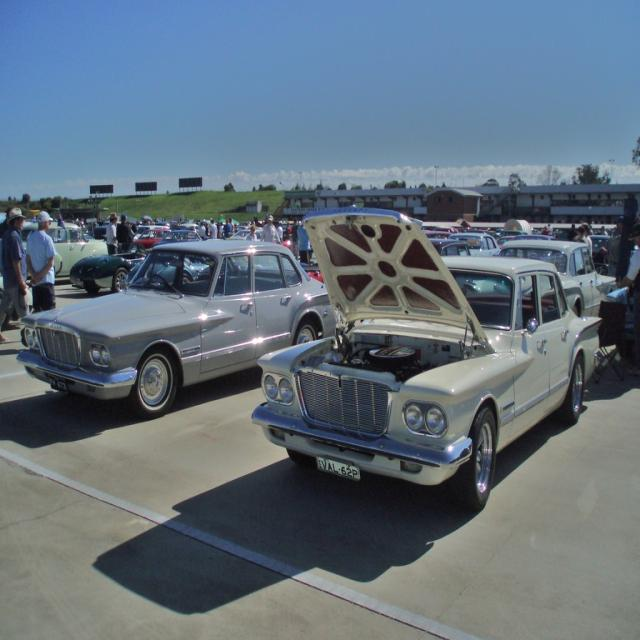car: (246, 204, 608, 524), (10, 232, 344, 426)
